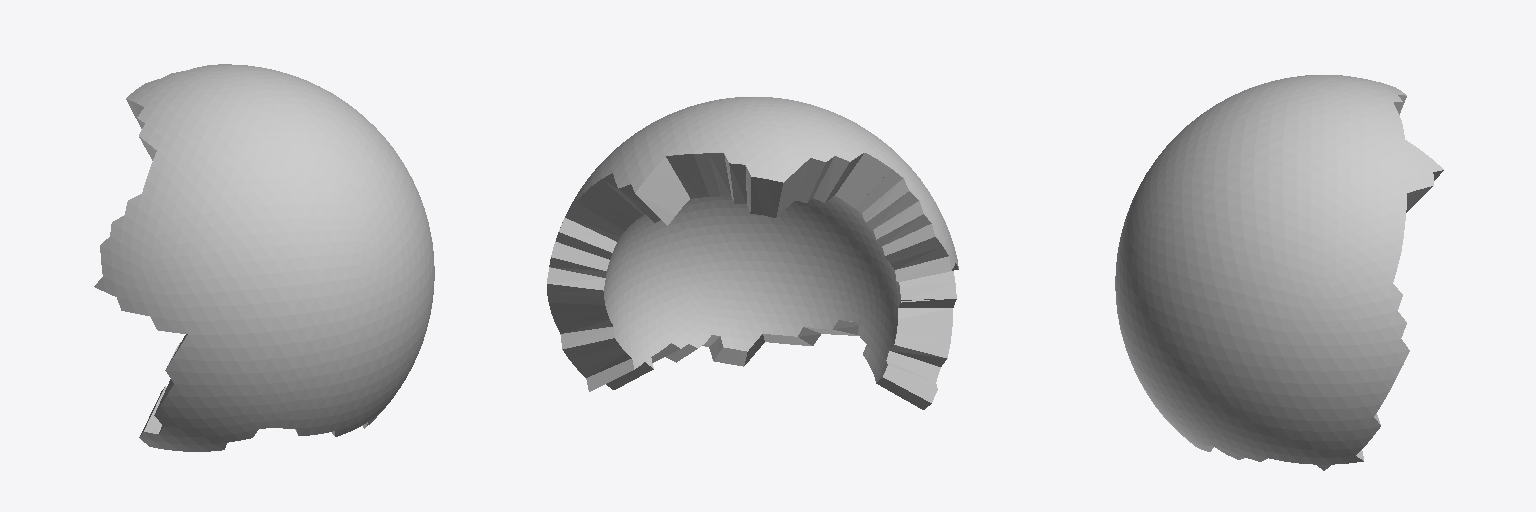
Rendered from clouds_9.obj.
3 renders of one model, left to right at view 1: azimuth 30°, elevation 25°; view 2: azimuth 150°, elevation 25°; view 3: azimuth 270°, elevation 25°, orthographic.
Parts seen in each view (by area): view 1: Icosphere.034; view 2: Icosphere.034; view 3: Icosphere.034.
Boxes of the visible parts, box(x1,y1,x2,y2) form: Icosphere.034: box(94, 64, 434, 451); Icosphere.034: box(547, 97, 958, 409); Icosphere.034: box(1115, 75, 1443, 470).
Bounding box in the file's own units: 20.7 × 18.09 × 17.09.